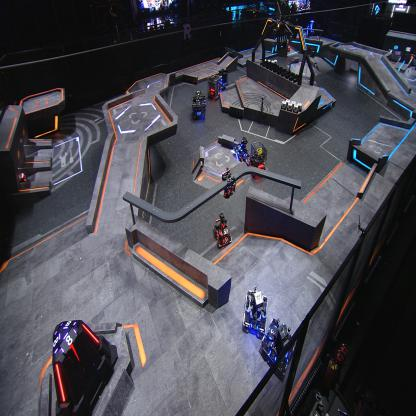car: (259, 318, 296, 378), (243, 287, 268, 337), (245, 140, 268, 178), (212, 212, 233, 248), (207, 71, 222, 101), (191, 90, 205, 118), (233, 136, 250, 159), (12, 167, 28, 187), (215, 67, 228, 89), (284, 41, 291, 51)
